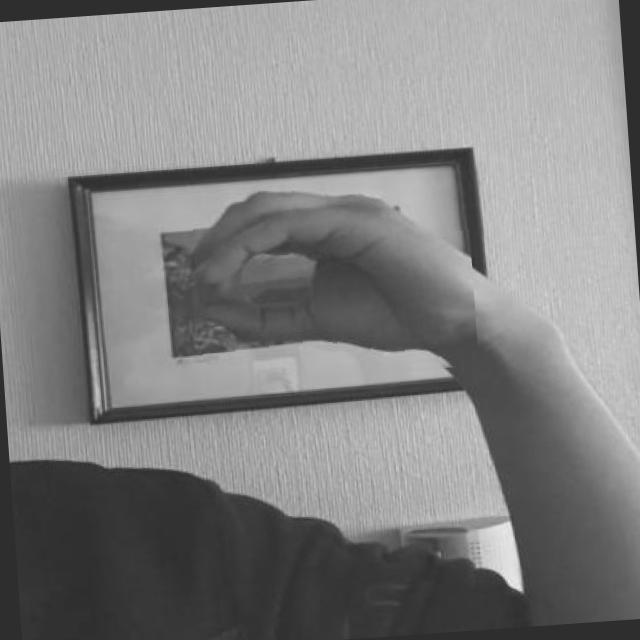O: (172, 170, 479, 393)
